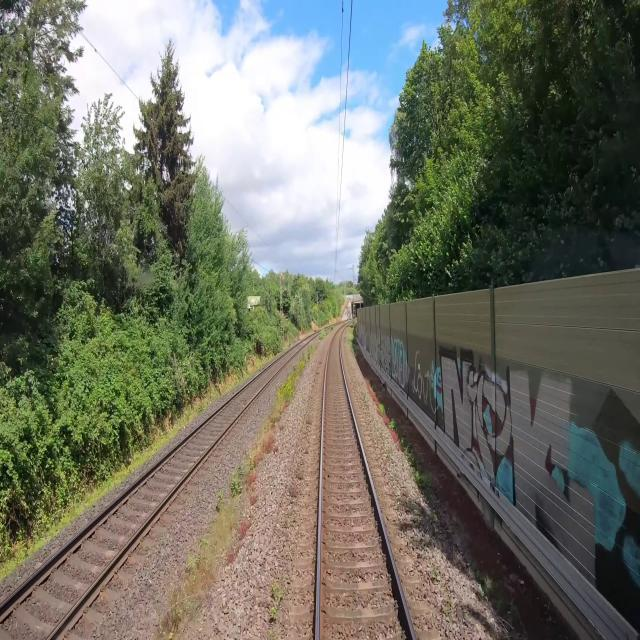Plant: (153, 324, 334, 639), (271, 580, 286, 601), (266, 606, 276, 623), (267, 627, 274, 638)
